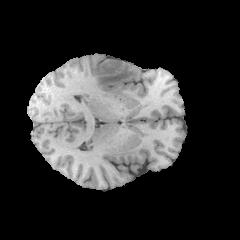glioma: (85, 59, 140, 118)
